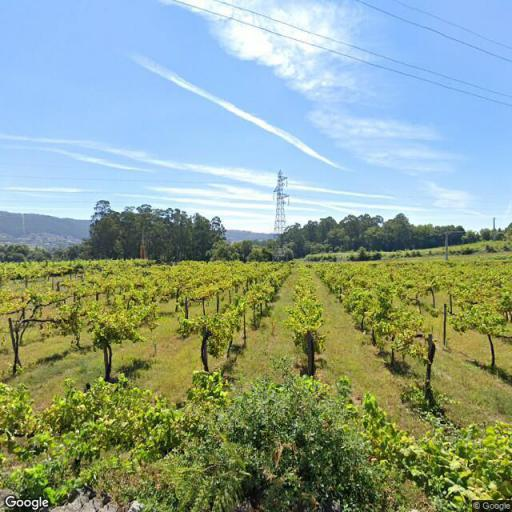ss_4: (270, 168, 292, 259)
